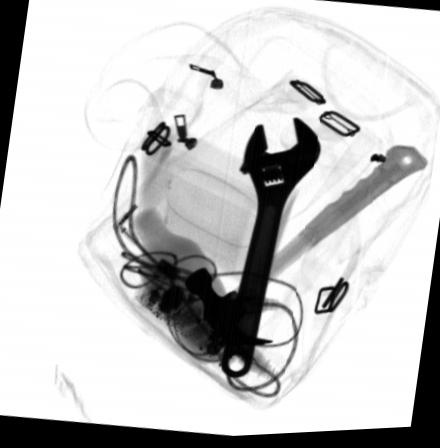Hammer: (186, 149, 430, 350)
Wrench: (221, 118, 322, 380)
